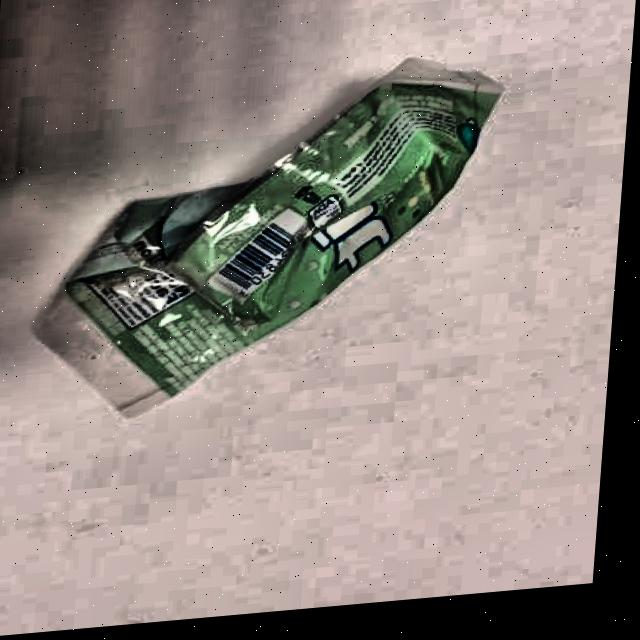plastic: (24, 49, 508, 432)
